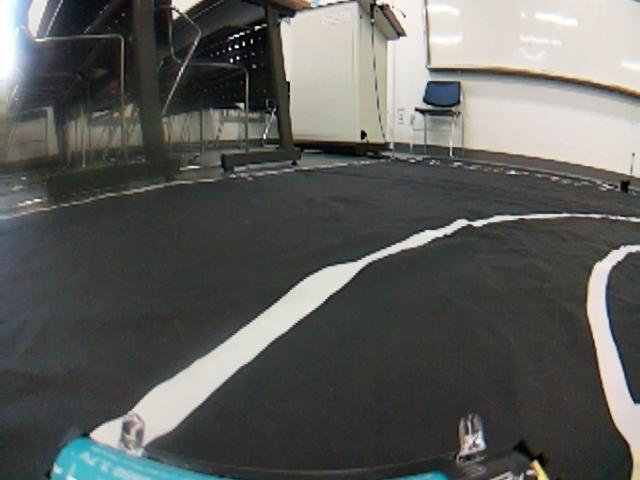right: (0, 209, 640, 479)
